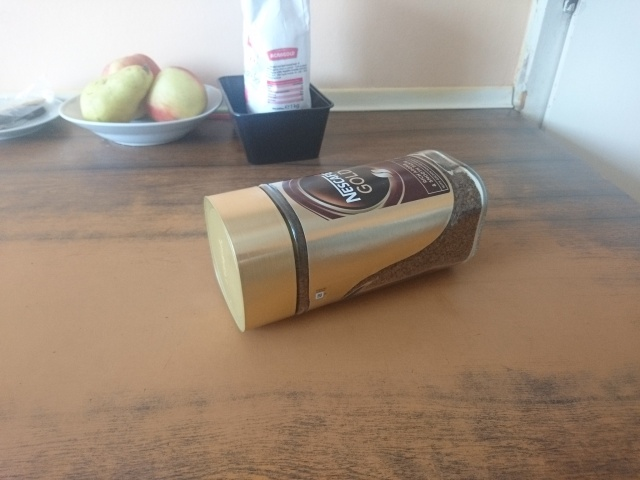Nescafe Gold 225g: (199, 146, 491, 336)
